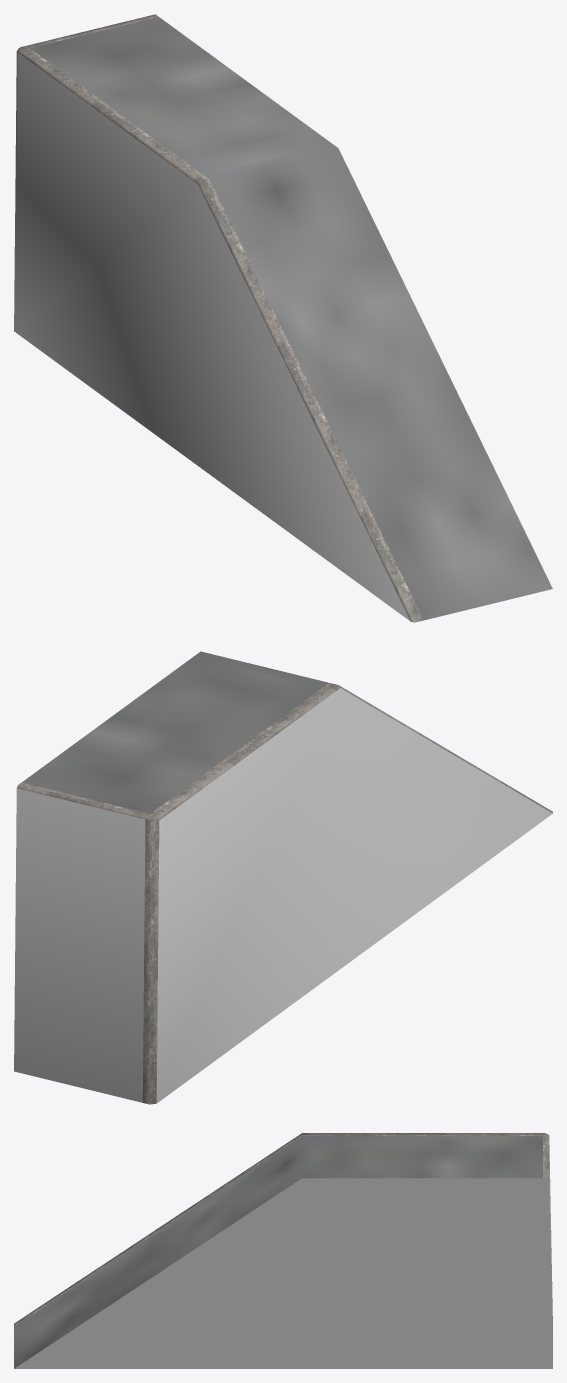
Rendered from JpHouseJ_StoneWall_slope13r.fbx.
3 renders of one model, top to bottom at view 1: azimuth 30°, elevation 25°; view 2: azimuth 150°, elevation 25°; view 3: azimuth 270°, elevation 25°, orthographic. The views are drawn at different scales.
Parts seen in each view (by area): view 1: JpHouseJ_StoneWall_slope13r; view 2: JpHouseJ_StoneWall_slope13r; view 3: JpHouseJ_StoneWall_slope13r.
Part boxes in pixels (bbox=[...]): JpHouseJ_StoneWall_slope13r: bbox=[14, 14, 552, 622]; JpHouseJ_StoneWall_slope13r: bbox=[14, 651, 552, 1104]; JpHouseJ_StoneWall_slope13r: bbox=[14, 1133, 552, 1368].
Bounding box in the file's own units: 2.11 × 4.08 × 10.46.
